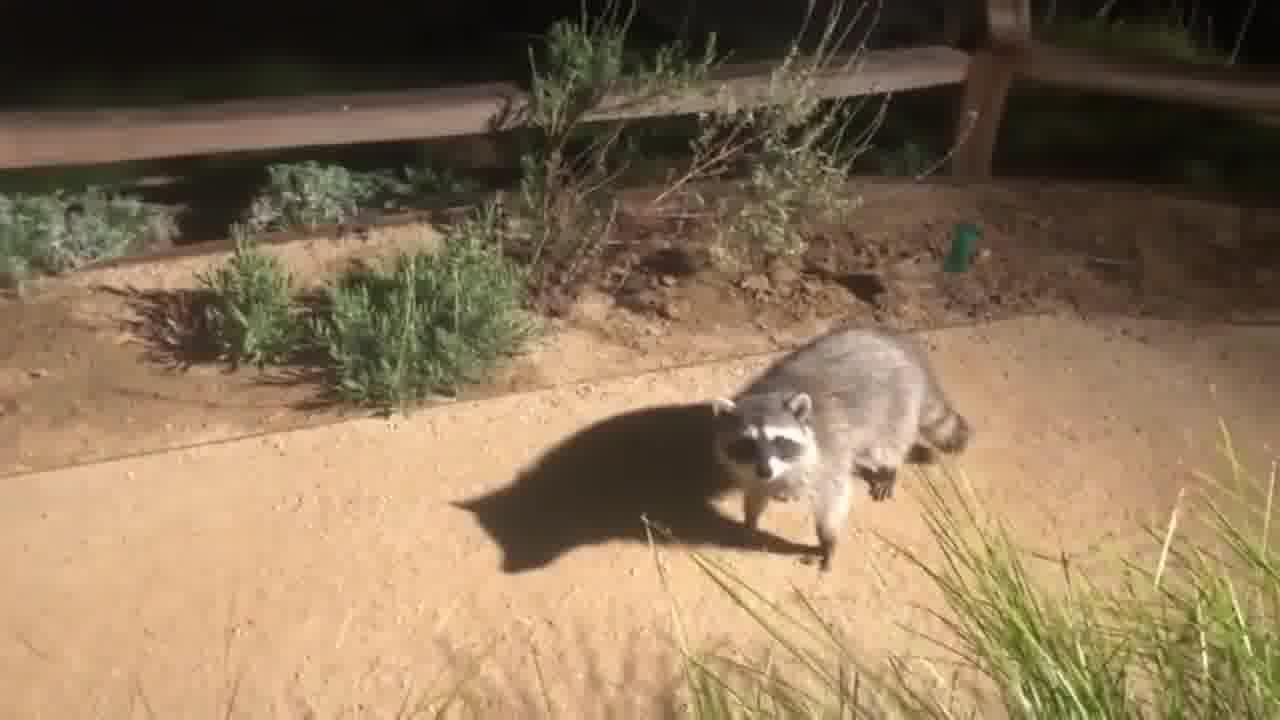raccoon: (699, 307, 982, 578)
